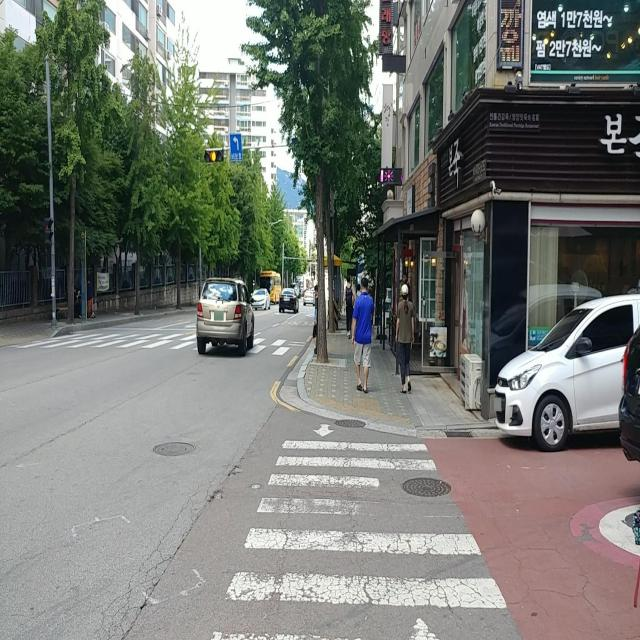횡단보도: (207, 419, 509, 640), (25, 325, 292, 354)
